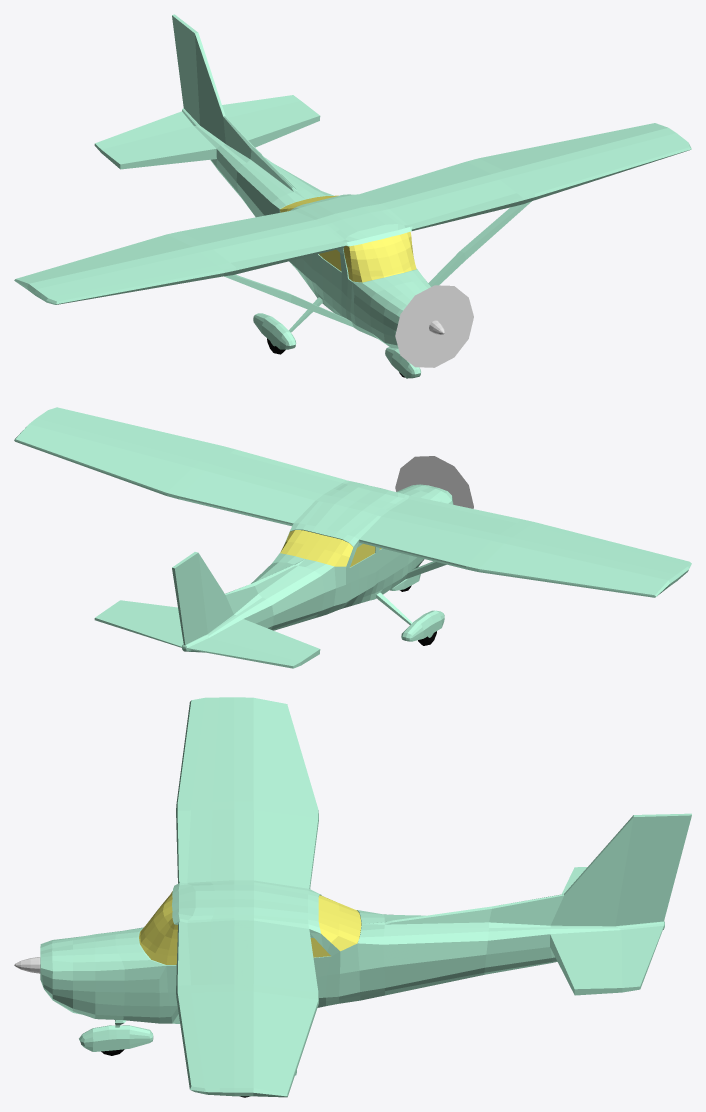
Rendered from cessna.fbx.
3 renders of one model, top to bottom at view 1: azimuth 30°, elevation 25°; view 2: azimuth 150°, elevation 25°; view 3: azimuth 270°, elevation 25°, orthographic. The views are drawn at different scales.
Visible parts, largest first — view 1: body, Circle.001, wheelwell, front wheelwell; view 2: body, Circle.001, wheelwell; view 3: body, front wheelwell.
Part boxes in pixels (x1=…): body: x1=14, y1=14, x2=691, y2=348; Circle.001: x1=395, y1=285, x2=473, y2=367; wheelwell: x1=253, y1=313, x2=296, y2=349; front wheelwell: x1=385, y1=347, x2=420, y2=378; body: x1=14, y1=407, x2=691, y2=668; Circle.001: x1=395, y1=456, x2=473, y2=508; wheelwell: x1=401, y1=610, x2=444, y2=641; body: x1=40, y1=697, x2=691, y2=1097; front wheelwell: x1=79, y1=1025, x2=153, y2=1051.
Size of the model in its own units: 1093 by 313 by 797.
